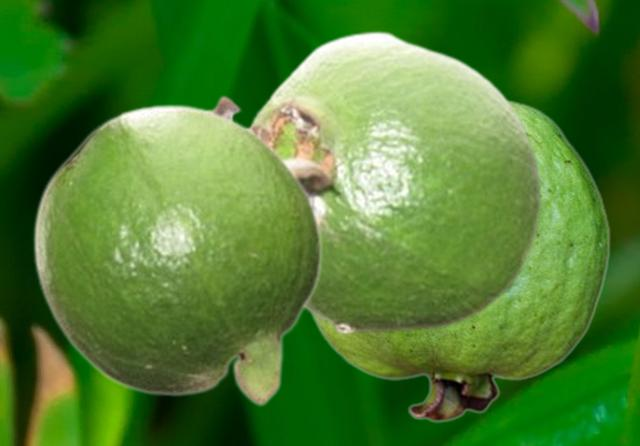guava: (201, 29, 543, 334), (308, 99, 610, 422), (31, 102, 322, 407)
